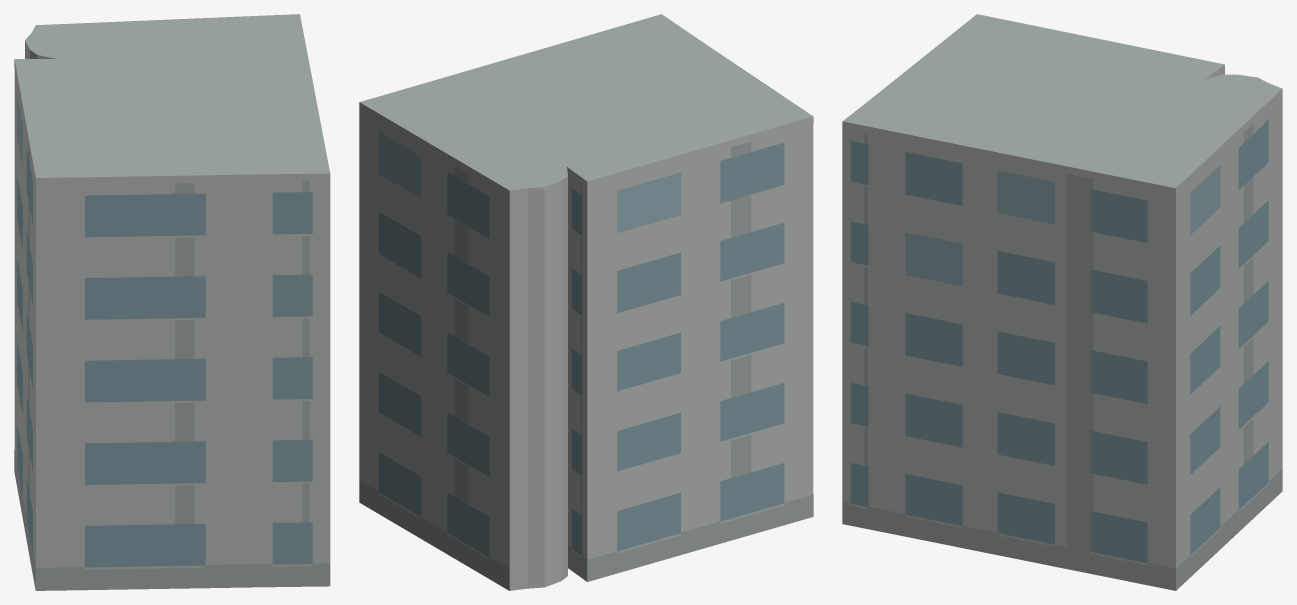
The model's file is survey-upis-32962940.glb.
The picture shows the model from 3 angles, left to right: view 1: azimuth 30°, elevation 25°; view 2: azimuth 150°, elevation 25°; view 3: azimuth 270°, elevation 25°; orthographic projection. The views are drawn at different scales.
Parts seen in each view (by area): view 1: survey-upis-32962940.tmp; view 2: survey-upis-32962940.tmp; view 3: survey-upis-32962940.tmp.
Boxes of the visible parts, left/top/right/bottom form: survey-upis-32962940.tmp: left=14, top=14, right=330, bottom=590; survey-upis-32962940.tmp: left=359, top=14, right=813, bottom=590; survey-upis-32962940.tmp: left=842, top=14, right=1282, bottom=590.
Size of the model in its own units: 12.31 by 13.25 by 13.14.
